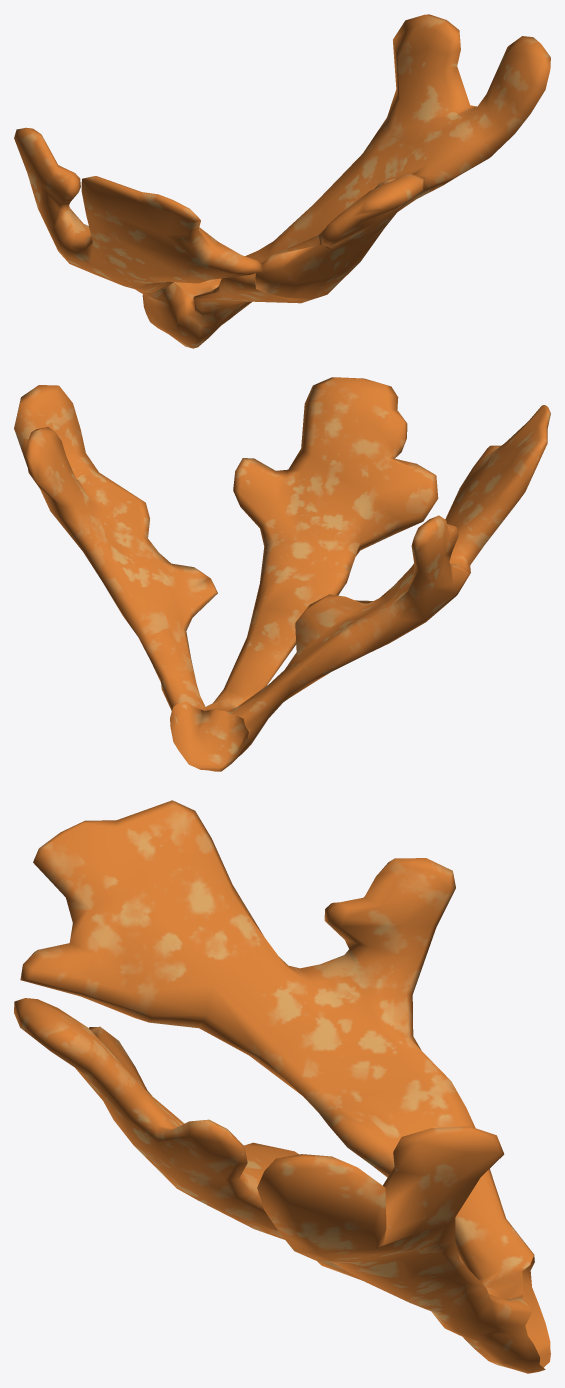
The model's file is elkhornCoral00b.fbx.
3 views of the same model, one above another, from view 1: azimuth 30°, elevation 25°; view 2: azimuth 150°, elevation 25°; view 3: azimuth 270°, elevation 25° (orthographic). The views are drawn at different scales.
Visible parts, largest first — view 1: elkhornCoral00_b; view 2: elkhornCoral00_b; view 3: elkhornCoral00_b.
Boxes of the visible parts, box(x1,y1,x2,y2) form: elkhornCoral00_b: box(14, 14, 550, 348); elkhornCoral00_b: box(14, 377, 550, 771); elkhornCoral00_b: box(14, 800, 550, 1373).
Bounding box in the file's own units: 1.58 × 0.9462 × 1.09.
Materials: 1 (1 with a texture image).
